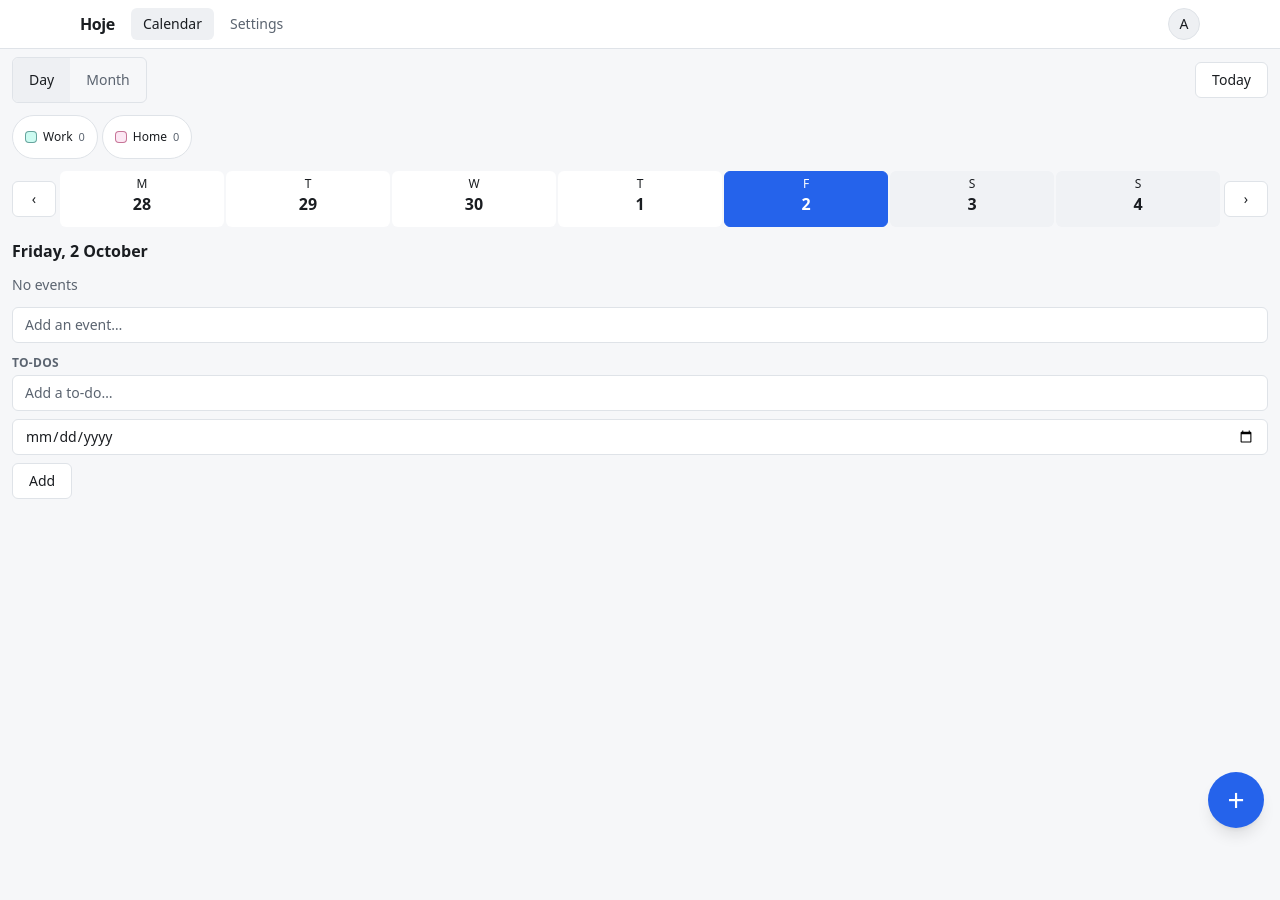
Scenario: mobile calendar › More opens the full editor as a sheet
Click the button named "Add event" at (1236, 800), box [1208,772,1264,828]
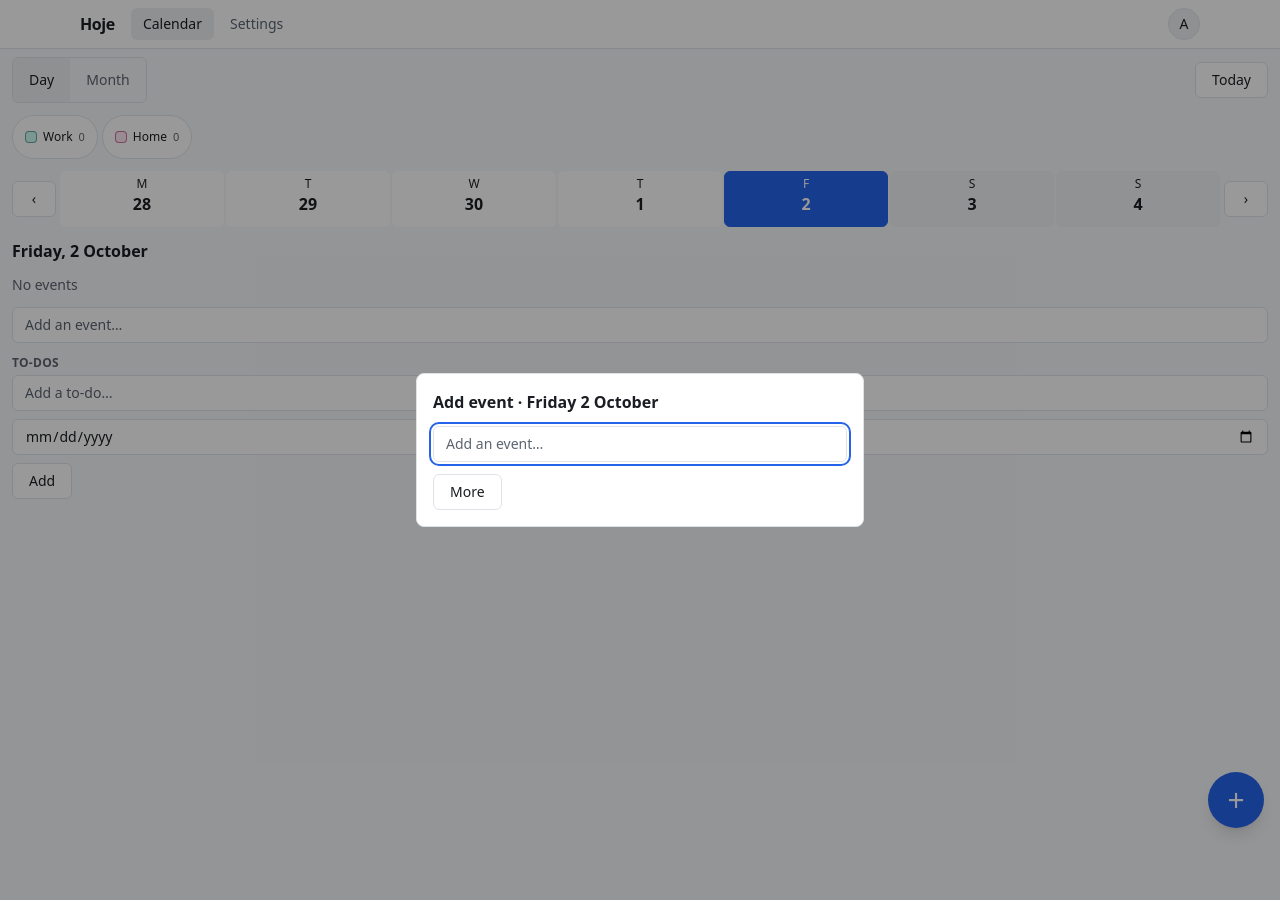
Click the button "More" at (467, 492), box [433,474,502,510]
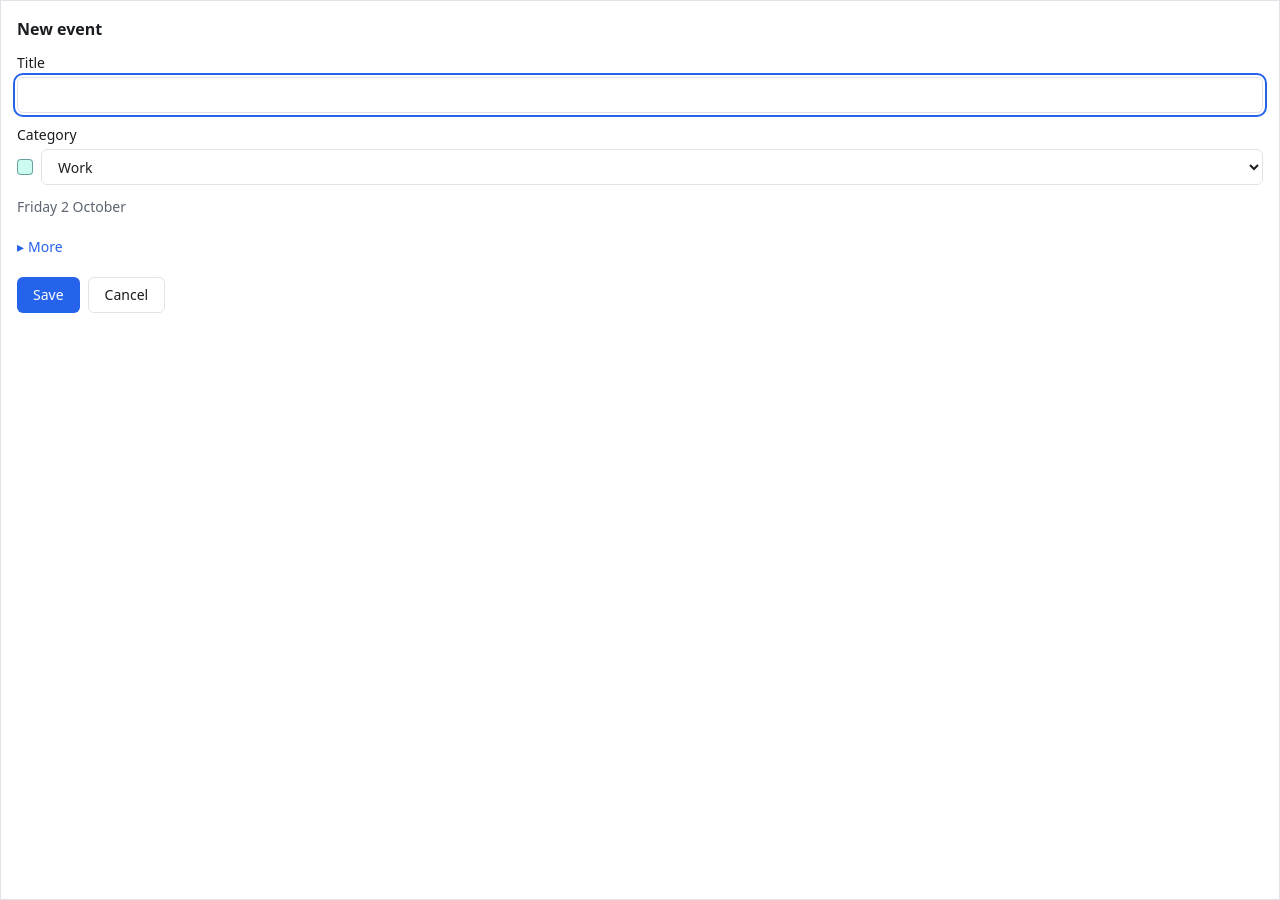
Now the dialog "New event" is shown
